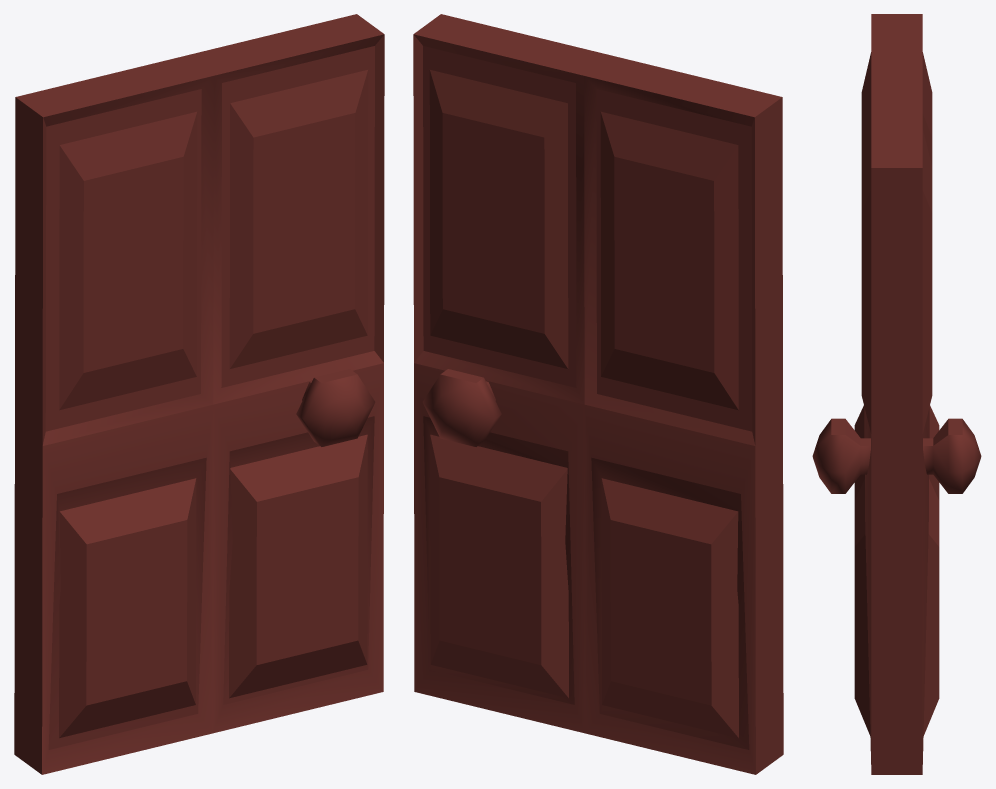
File: env_Porta.fbx
3 renders of one model, left to right at view 1: azimuth 30°, elevation 25°; view 2: azimuth 150°, elevation 25°; view 3: azimuth 270°, elevation 25°, orthographic. The views are drawn at different scales.
Visible parts, largest first — view 1: env_Porta; view 2: env_Porta; view 3: env_Porta.
Part boxes in pixels (box(x1,y1,x2,y2)): env_Porta: box(14, 14, 384, 774); env_Porta: box(413, 14, 783, 774); env_Porta: box(812, 14, 981, 774).
Size of the model in its own units: 1288 by 2363 by 596.
